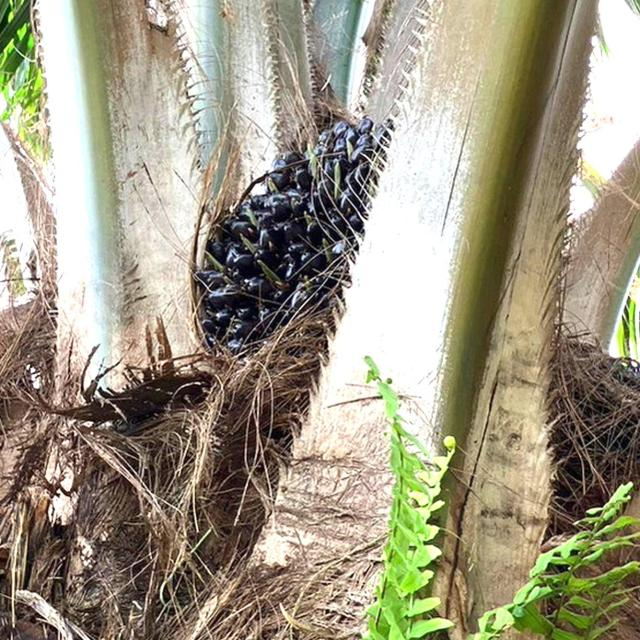unripe: (221, 117, 377, 375)
